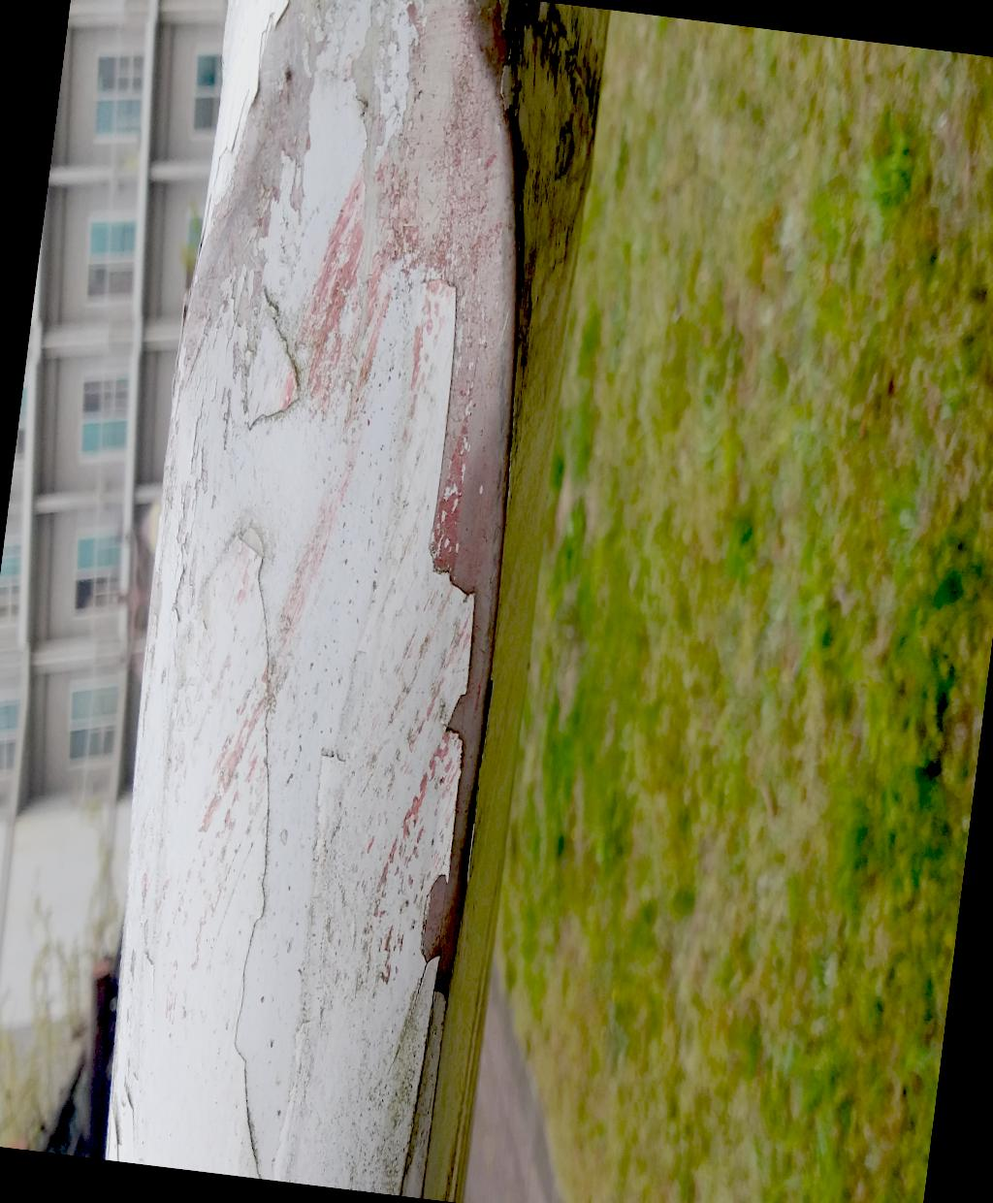corrosion: (95, 438, 584, 1203)
